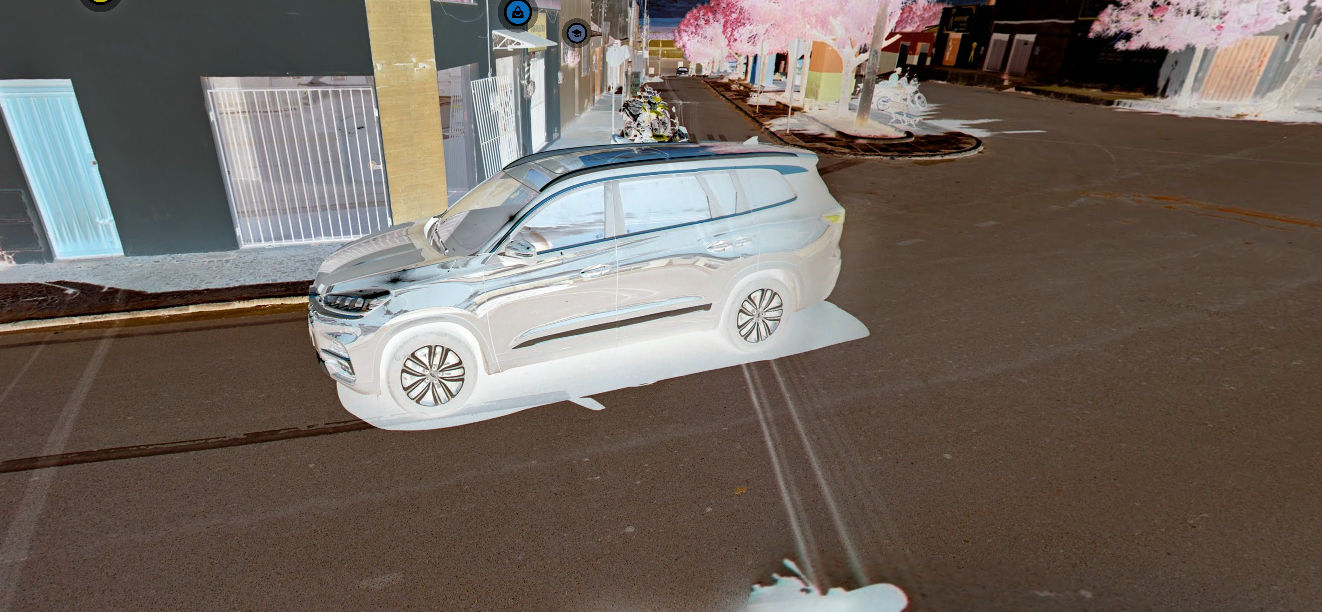car: (304, 132, 854, 430)
